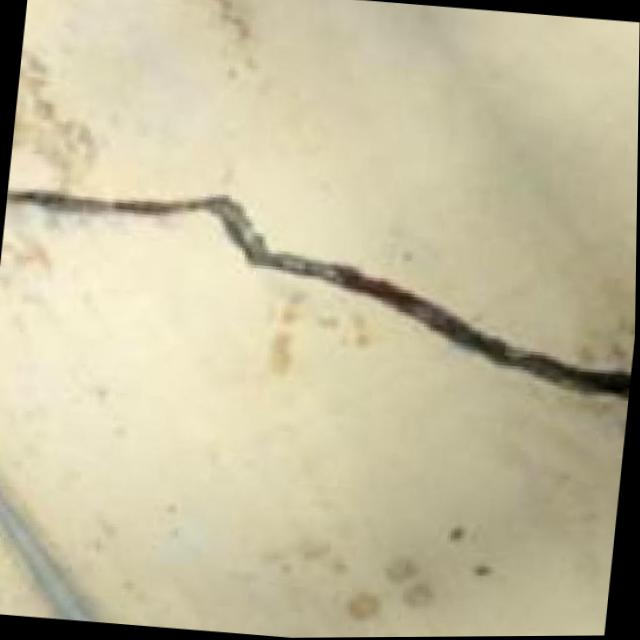Crack: (0, 146, 638, 433)
